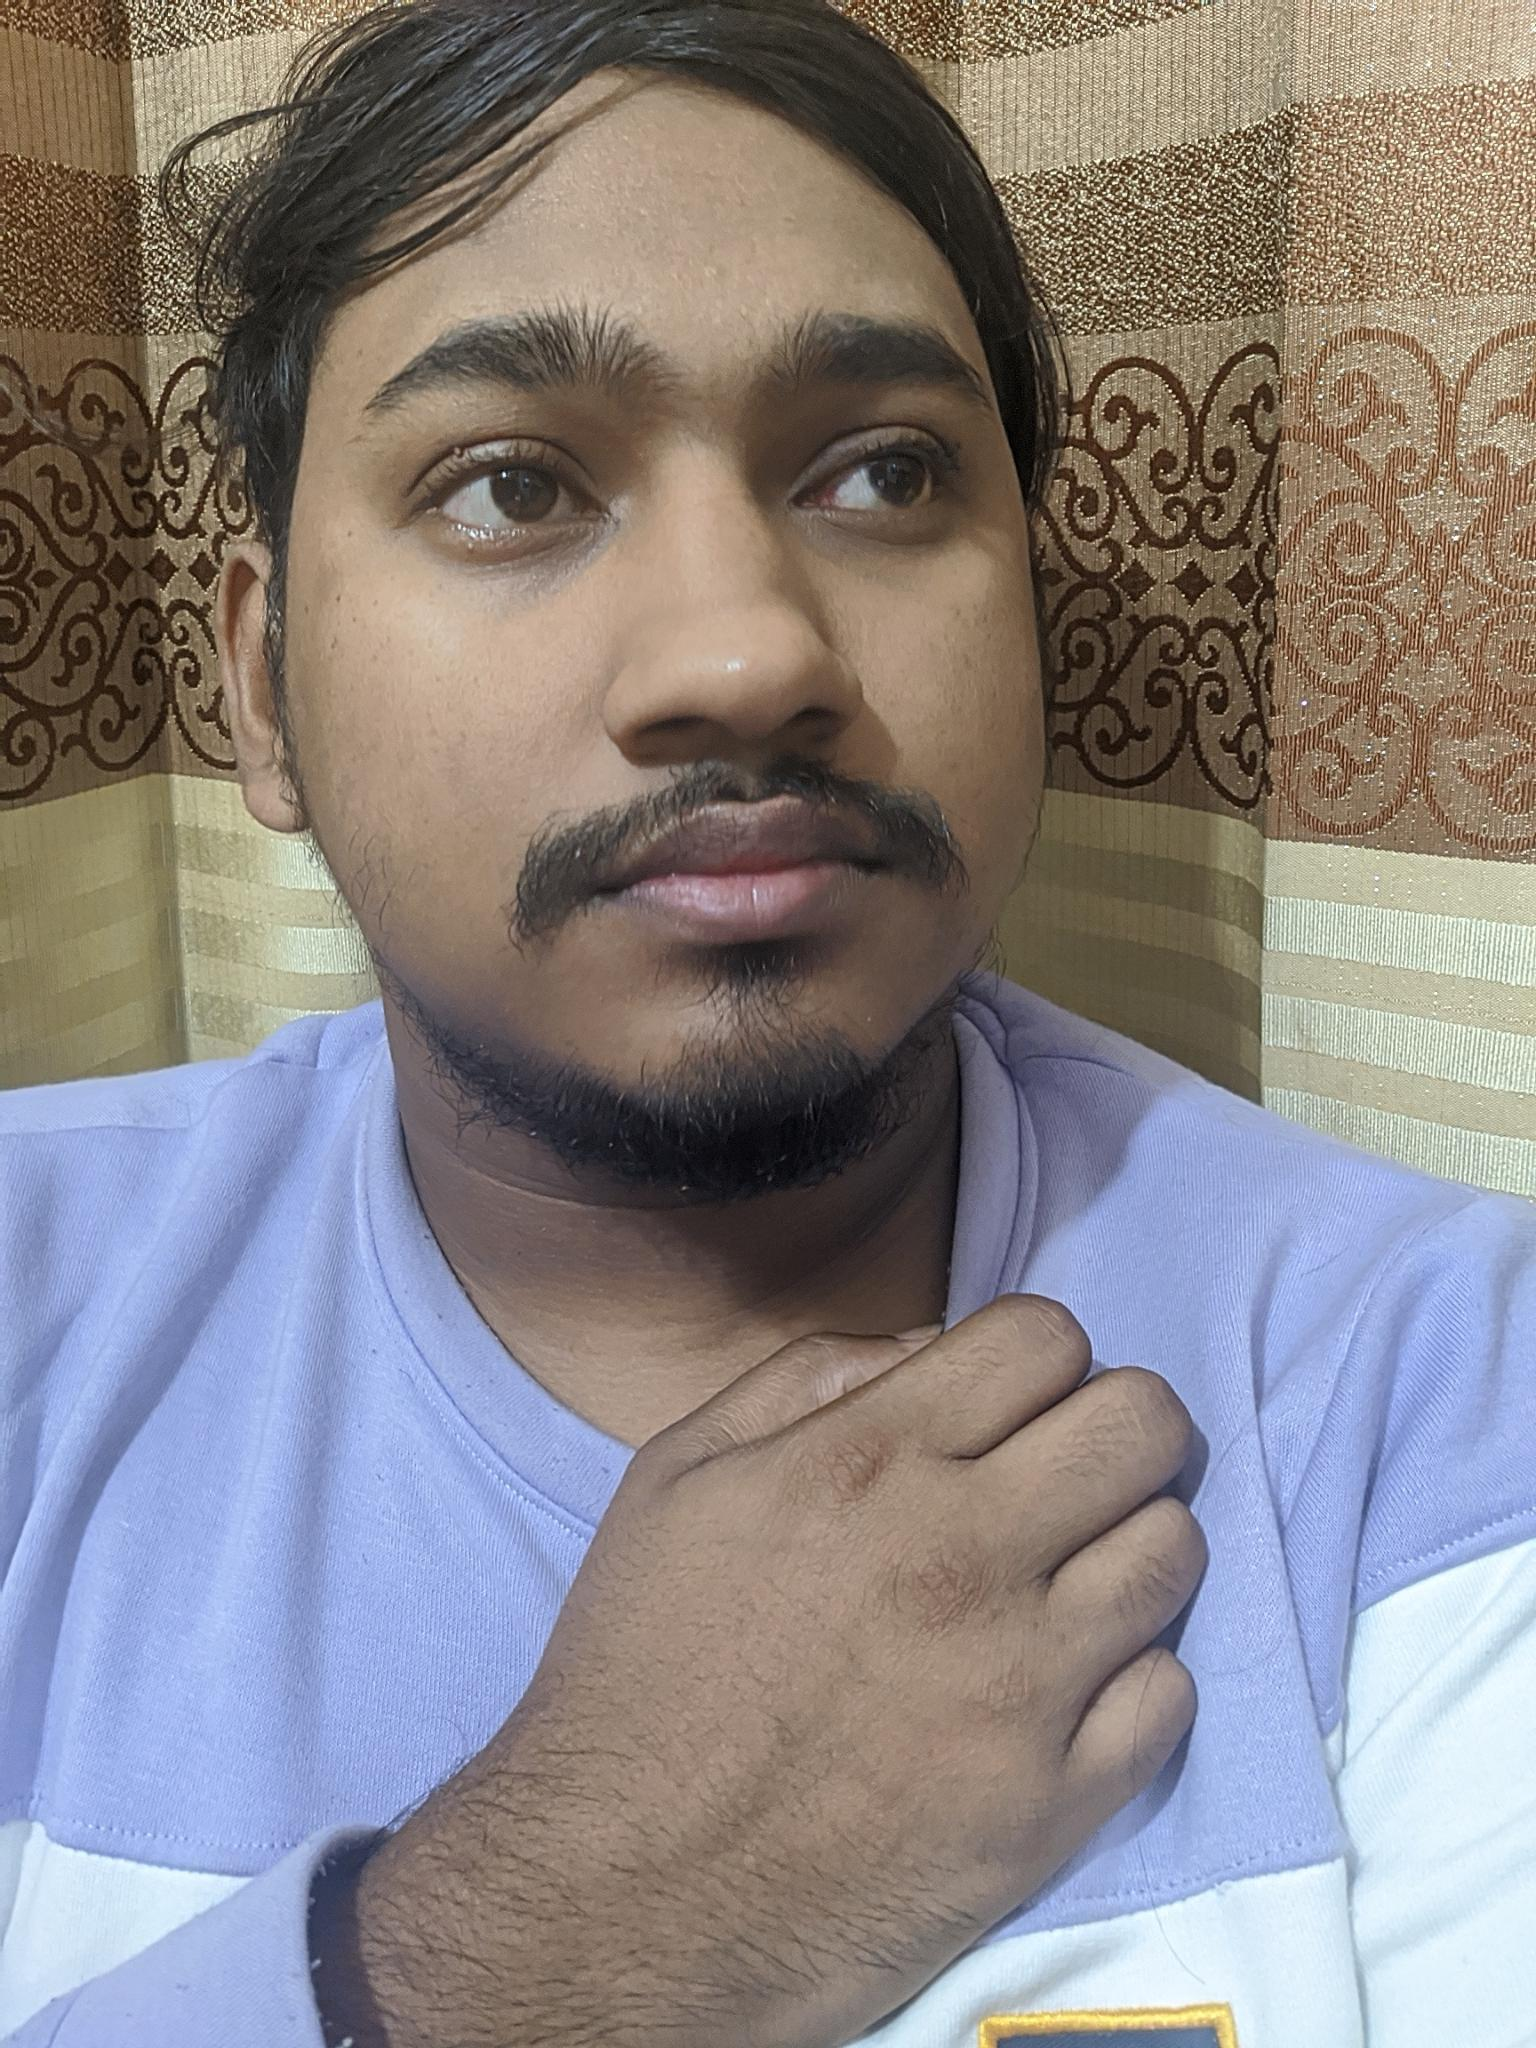Neutral: (349, 255, 1087, 1093)
